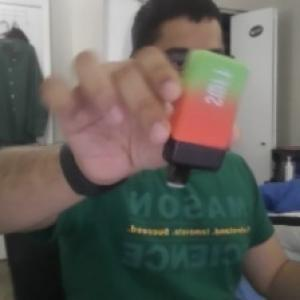Swift-E-Ciggirate: (158, 43, 252, 193)
